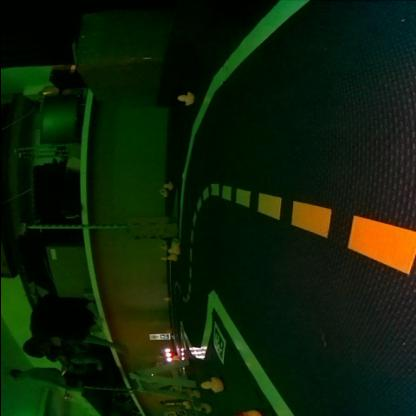Duckie: (198, 379, 219, 393), (176, 93, 193, 107), (196, 404, 210, 414), (188, 390, 200, 398), (166, 247, 176, 255), (164, 184, 172, 190), (158, 192, 166, 198), (168, 256, 175, 260)
Duckiebot: (162, 349, 176, 363)
Intersection sign: (148, 336, 156, 340)
QR code: (212, 324, 224, 362), (159, 334, 167, 340)
